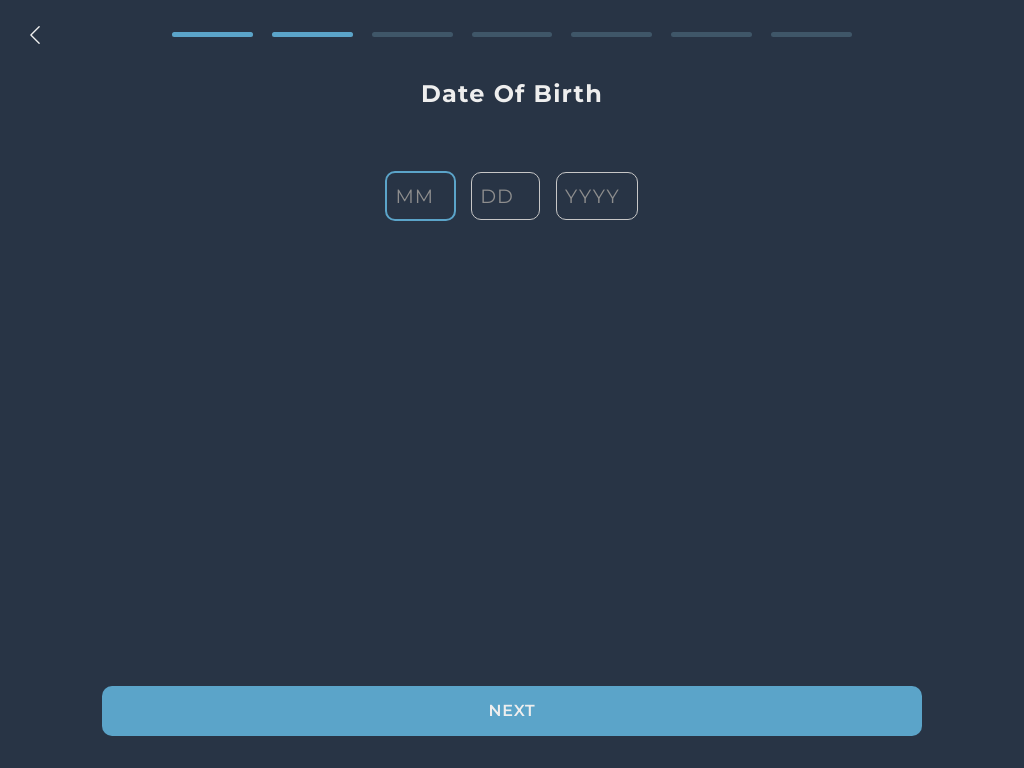
Test: Birthday › Validation testing › Should throw error if one or all inputs are empty on submit
Click the button "NEXT" at (512, 711), box [102, 686, 922, 736]
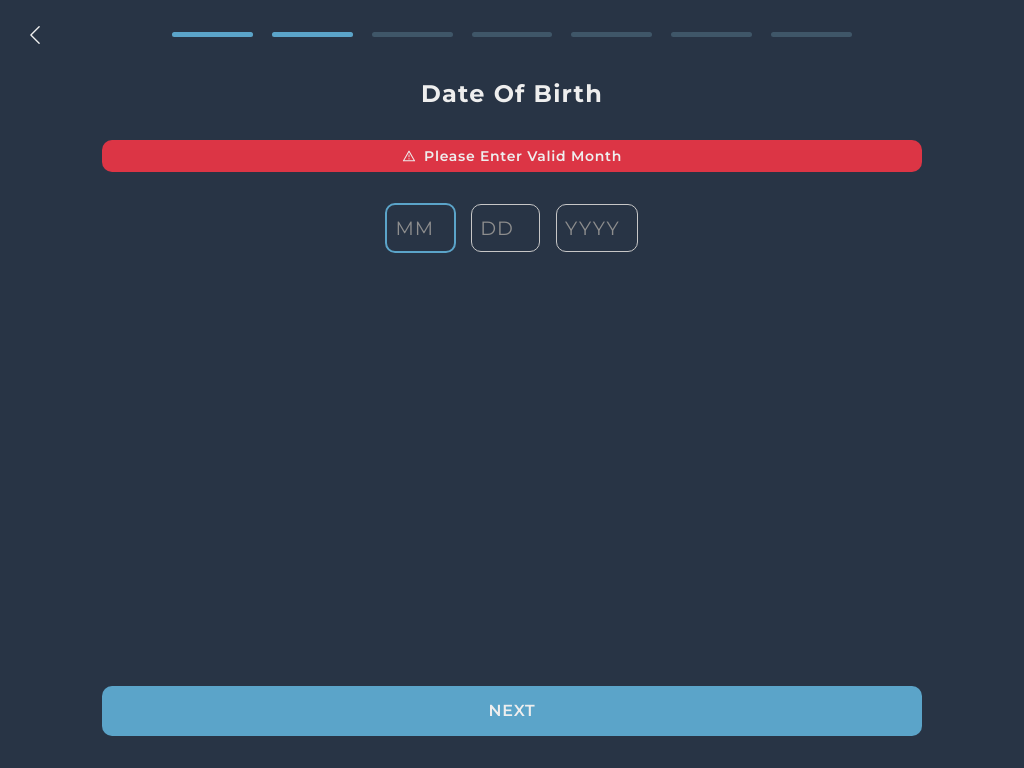
Result: the text "Please Enter Valid Month" is shown at [102, 140, 922, 172]
Type "1" into the field with test id "month" showing "MM" at (421, 228), box [386, 203, 456, 253]
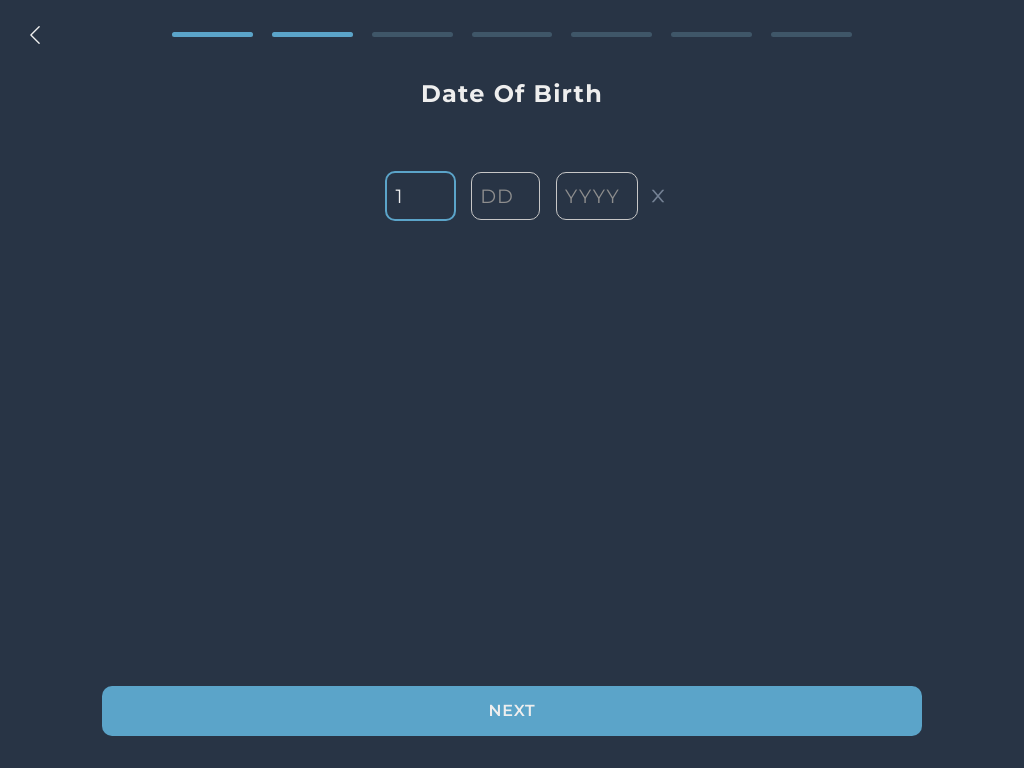
Click the button "NEXT" at (512, 711), box [102, 686, 922, 736]
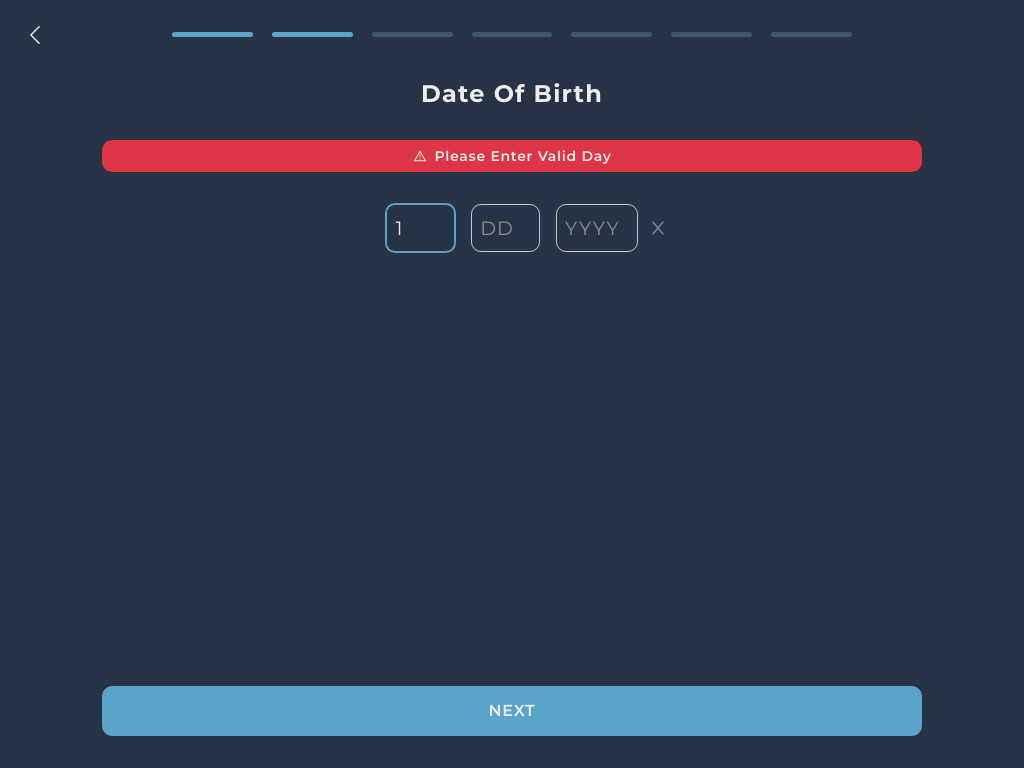
Result: the text "Please Enter Valid Day" is shown at [102, 140, 922, 172]
Type "15" into the field with test id "day" showing "DD" at (506, 228), box [471, 204, 540, 252]
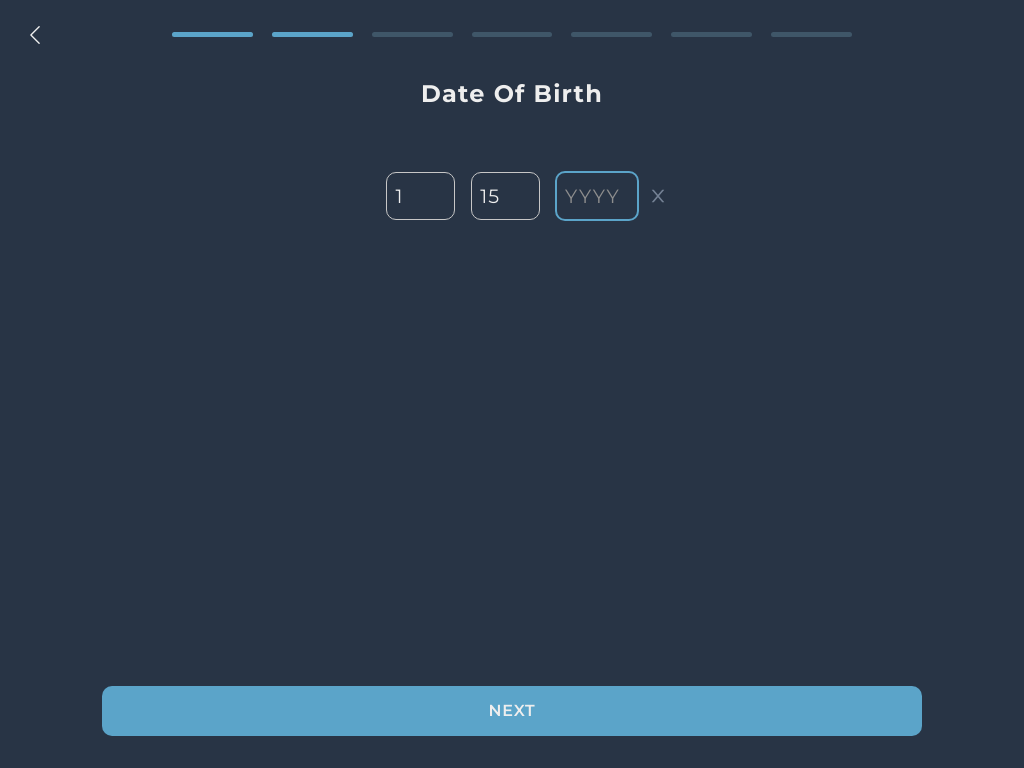
Click the button "NEXT" at (512, 711), box [102, 686, 922, 736]
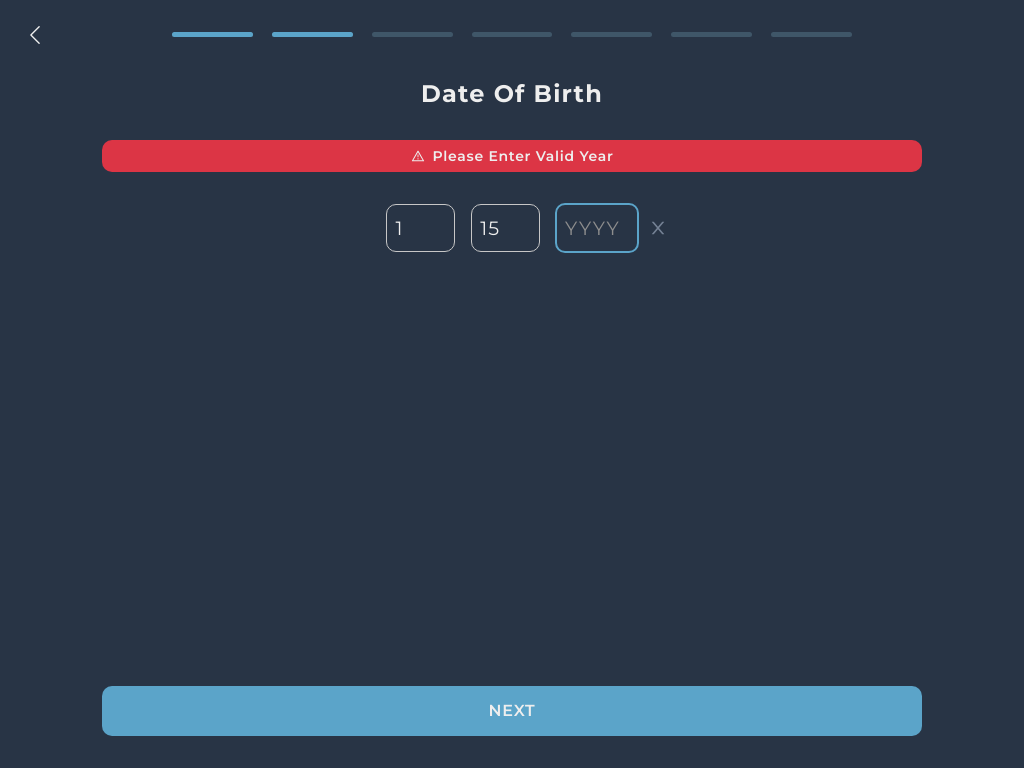
Result: the text "Please Enter Valid Year" is shown at [102, 140, 922, 172]
